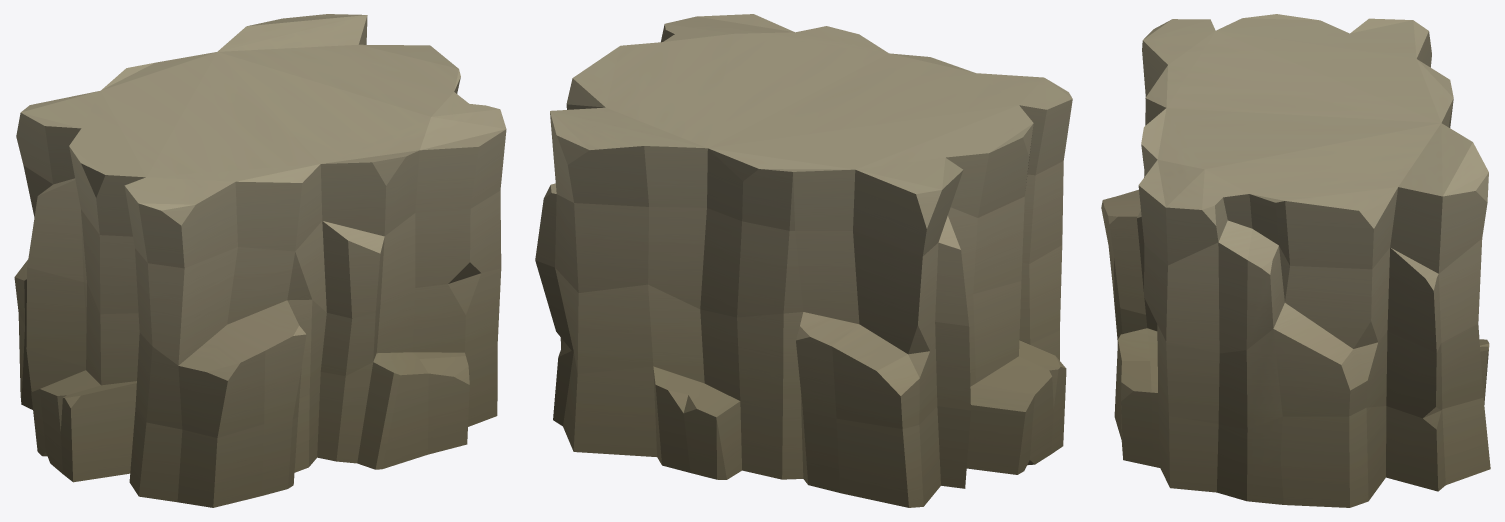
The model's file is Rock_Big_01.fbx.
3 views of the same model, side by side, from view 1: azimuth 30°, elevation 25°; view 2: azimuth 150°, elevation 25°; view 3: azimuth 270°, elevation 25° (orthographic). The views are drawn at different scales.
Parts seen in each view (by area): view 1: Rock_Big_01; view 2: Rock_Big_01; view 3: Rock_Big_01.
Part boxes in pixels (x1,y1,x2,y2): Rock_Big_01: (14,14,506,507); Rock_Big_01: (535,14,1072,507); Rock_Big_01: (1101,14,1490,507).
Size of the model in its own units: 2596 by 1704 by 2006.
